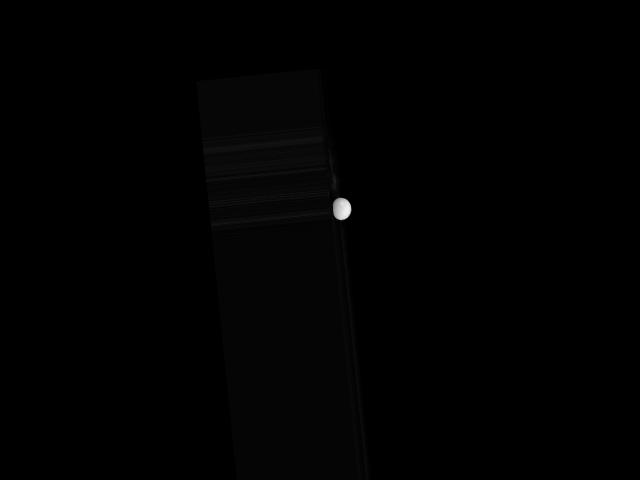egg: (331, 196, 352, 220)
